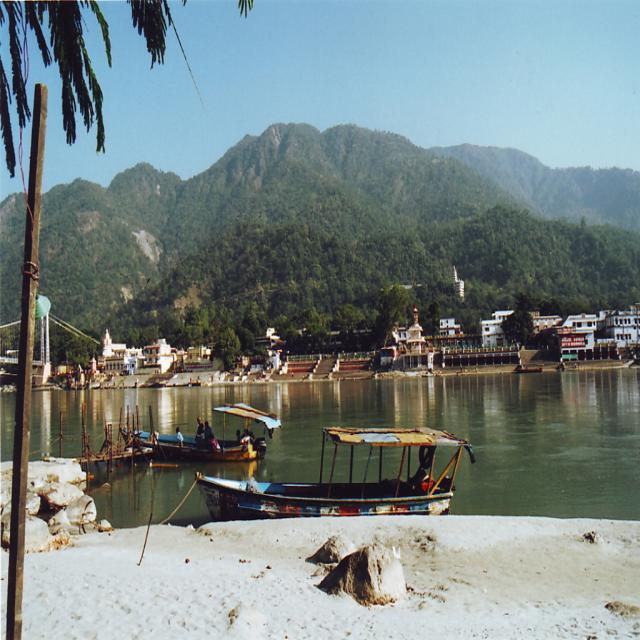Boat: (165, 416, 473, 536), (122, 402, 284, 464)
